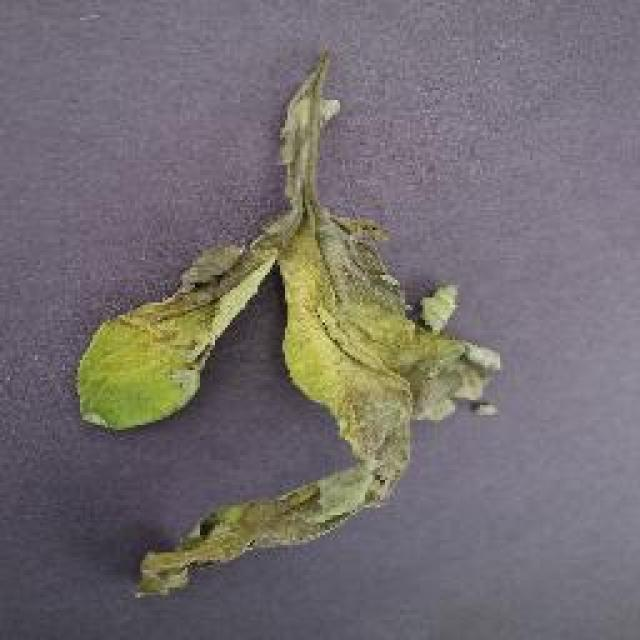Tomato___Late_blight: (75, 55, 498, 592)
